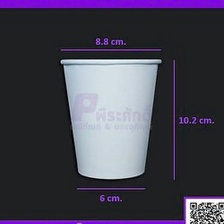paper_cup: (55, 54, 166, 183)
